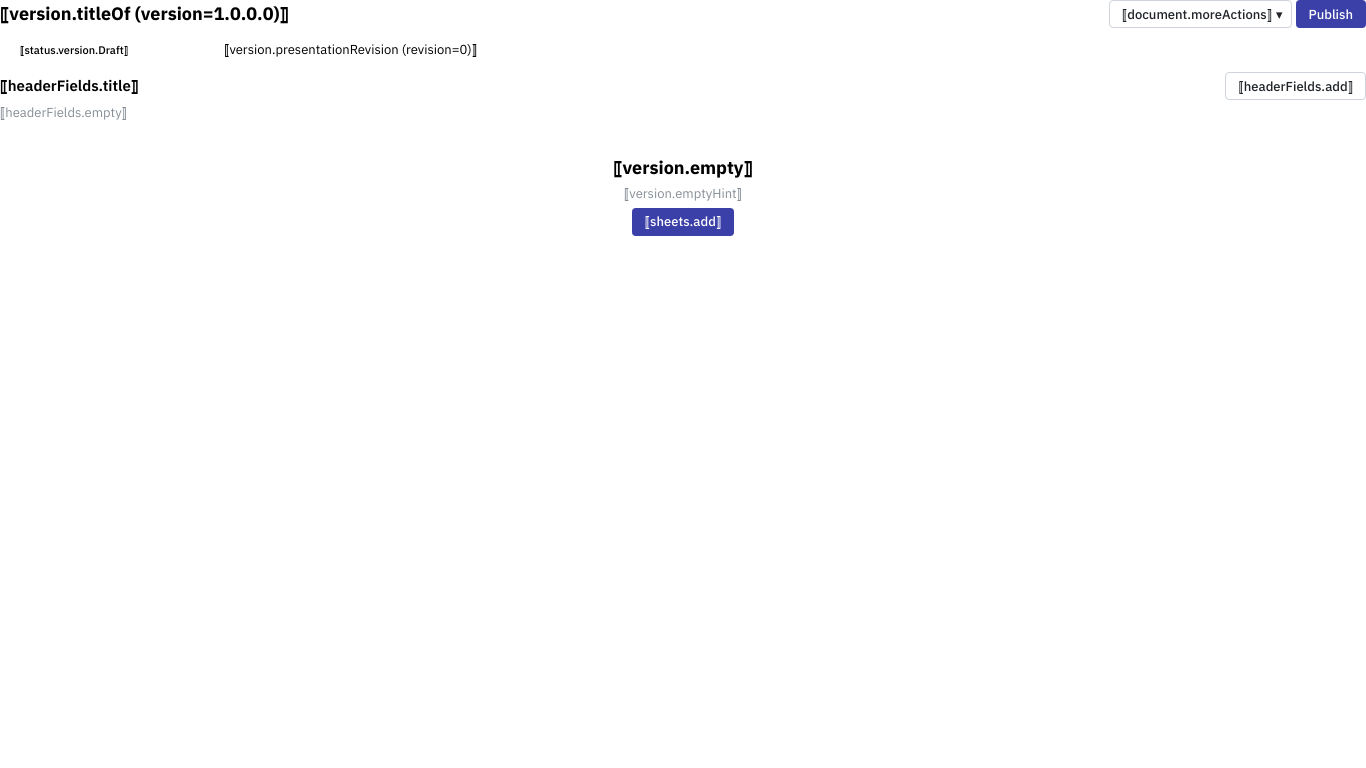
Test: TemplateVersionPage: відмова публікації показує перелік проблем (A2-01) › перелік із кодом і читабельним текстом кожної проблеми, без «at position 0»
The width and height of the screenshot is (1366, 768).
Click the button "Publish" at (1331, 14), box [1296,0,1365,28]
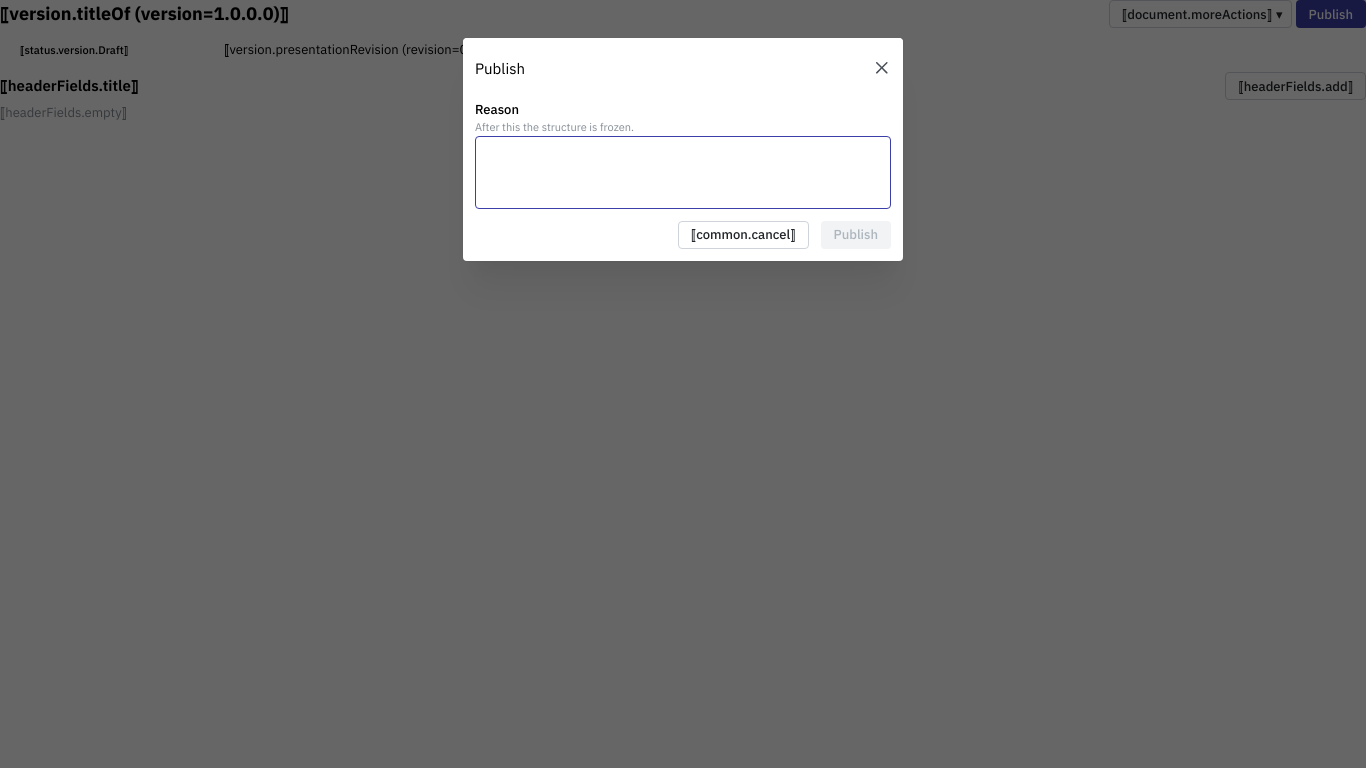
Type "Release" into the text box labelled "Reason" at (683, 173), box [475,136,891,209]
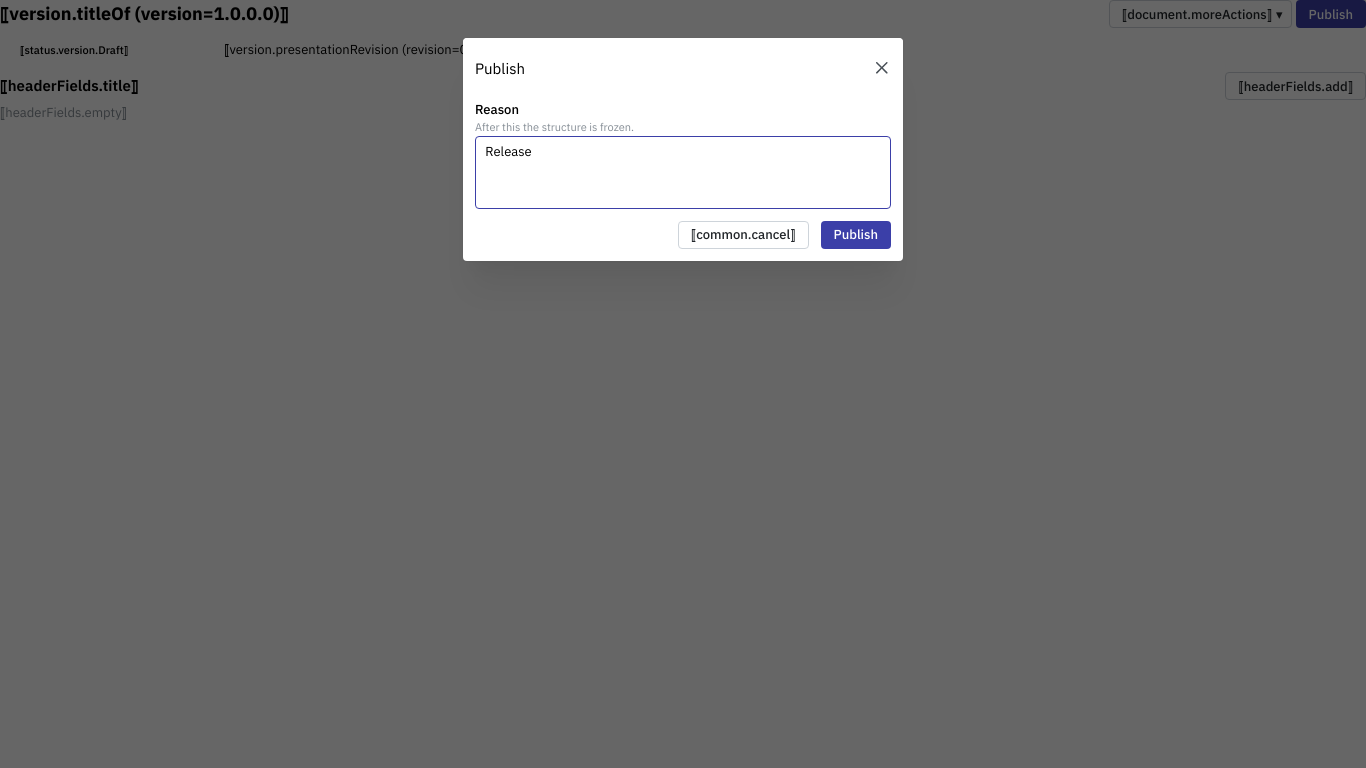
Click the button "Publish" at (856, 235), box [820,221,891,249]
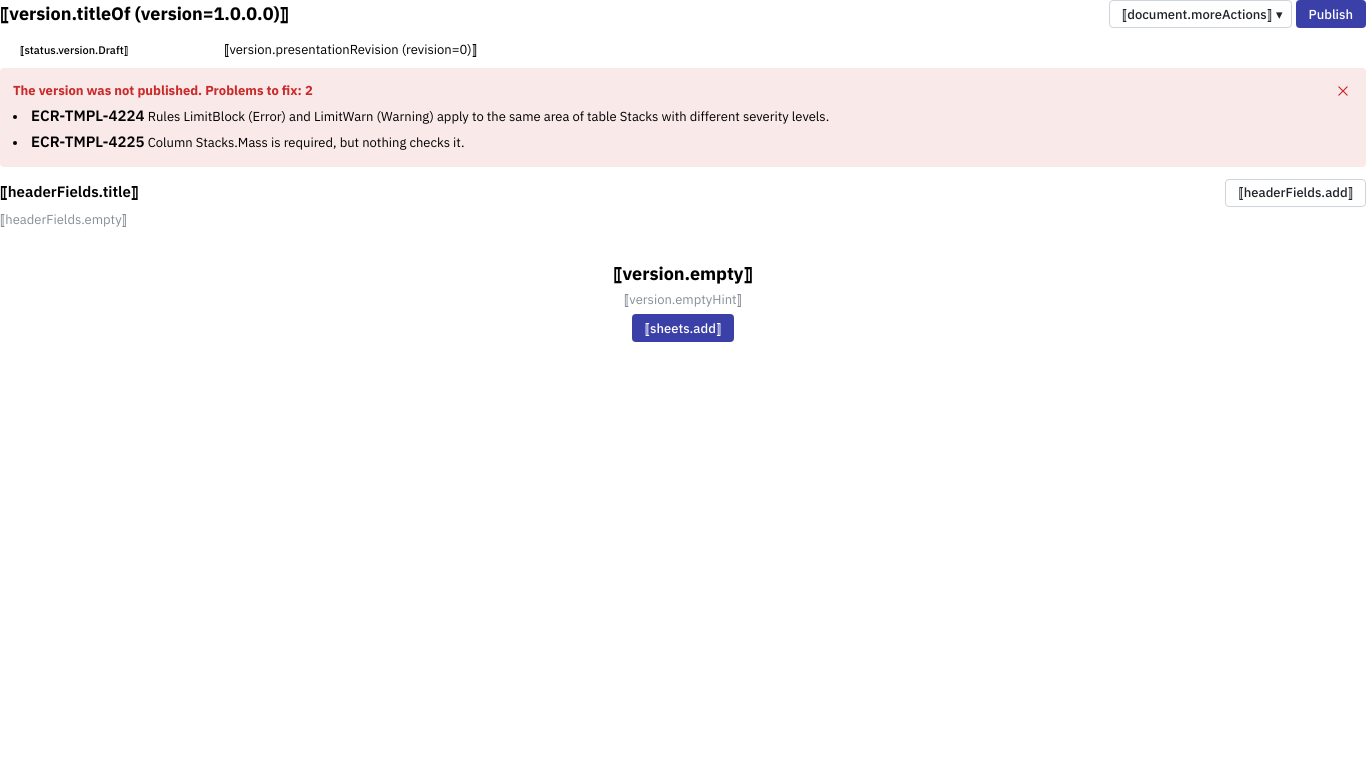
Now the text "The version was not published. Problems to fix: 2" is shown, box [13,81,313,100]
Now the text "ECR-TMPL-4224" is shown, box [31,106,145,124]
Now the text "Rules LimitBlock (Error) and LimitWarn (Warning) apply to the same area of table Stacks" is shown, box [148,108,829,124]
